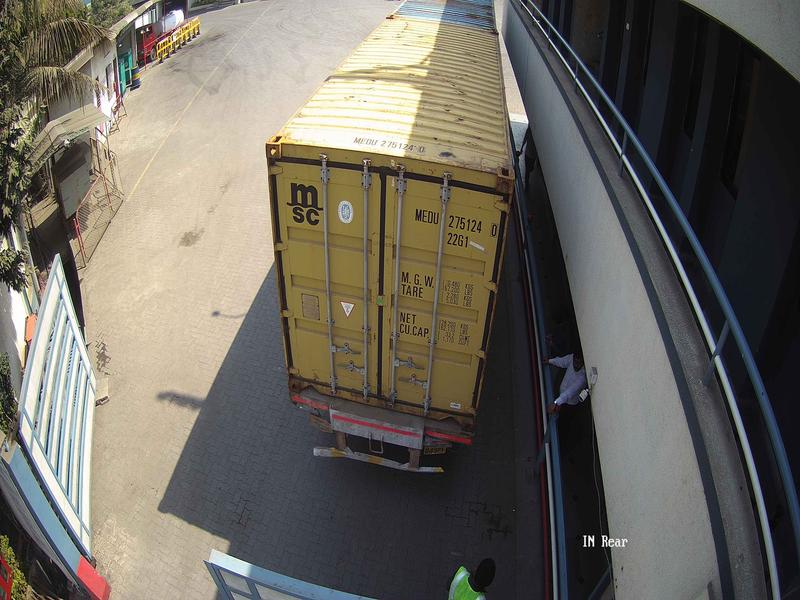container: (259, 121, 537, 425)
